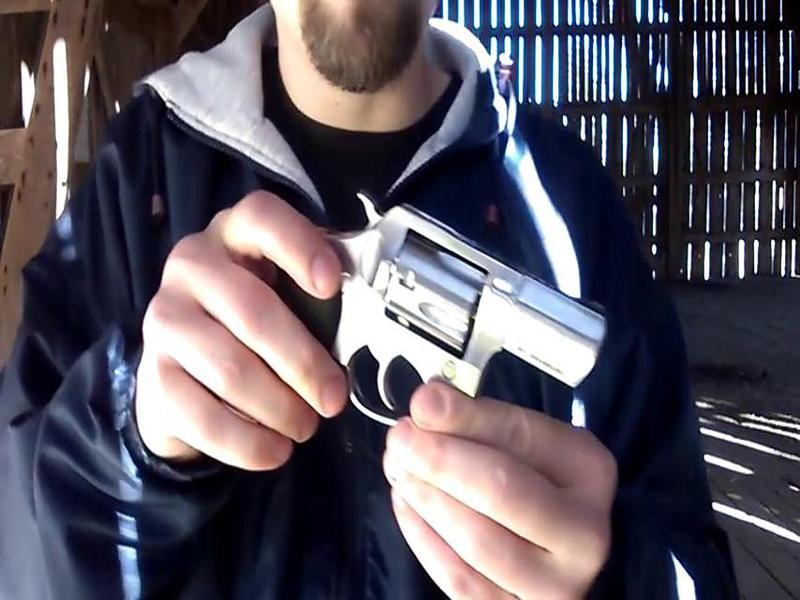Revolver: (287, 190, 579, 426)
